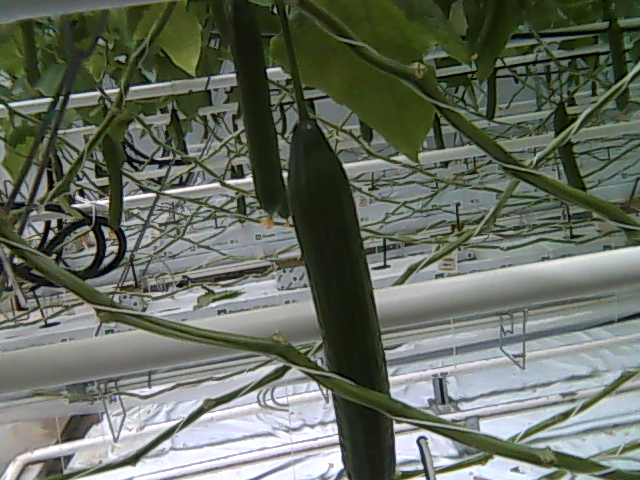concombre: (284, 108, 401, 480)
